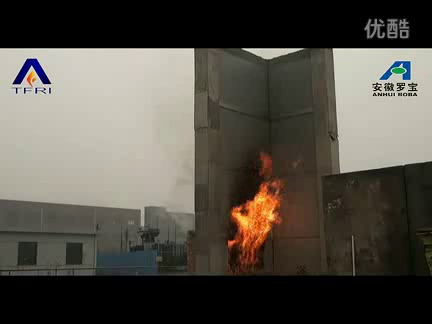fire: (226, 152, 286, 273)
